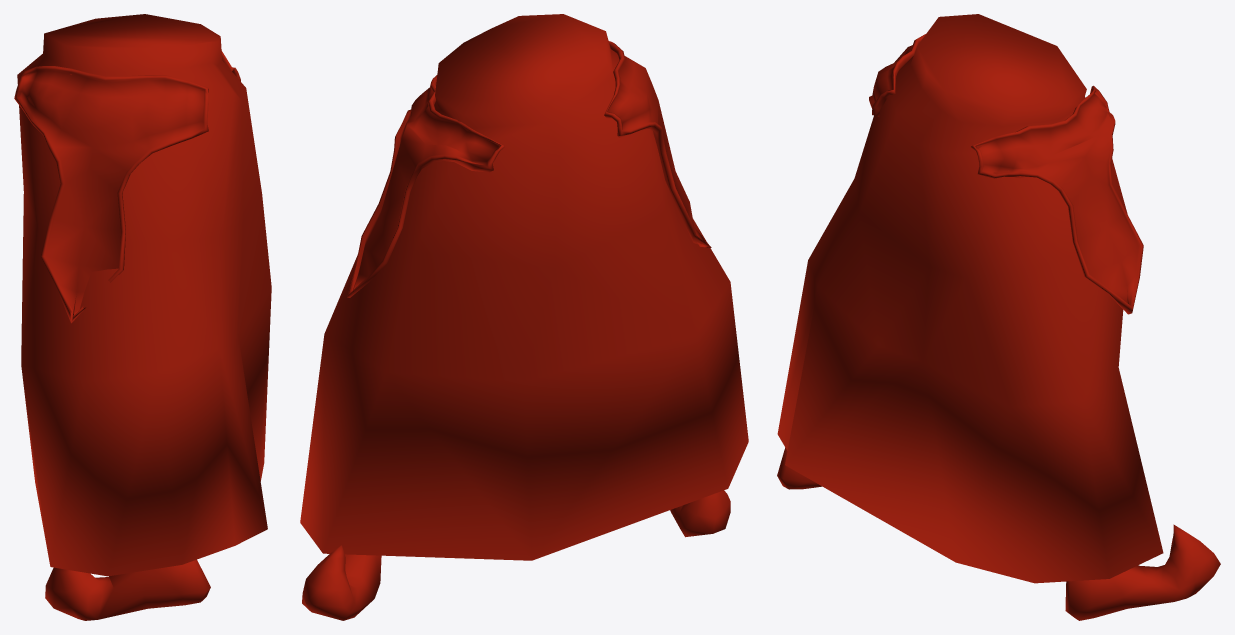
The model's file is bot_000083.obj.
3 renders of one model, left to right at view 1: azimuth 30°, elevation 25°; view 2: azimuth 150°, elevation 25°; view 3: azimuth 270°, elevation 25°, orthographic. The views are drawn at different scales.
Visible parts, largest first — view 1: LowPoly_Warlock.004_Plane.004; view 2: LowPoly_Warlock.004_Plane.004; view 3: LowPoly_Warlock.004_Plane.004.
Part boxes in pixels (<box>): LowPoly_Warlock.004_Plane.004: <box>14,14,271,620</box>; LowPoly_Warlock.004_Plane.004: <box>300,14,748,620</box>; LowPoly_Warlock.004_Plane.004: <box>777,14,1220,620</box>.
Bounding box in the file's own units: 0.6805 × 1.16 × 0.8902.
